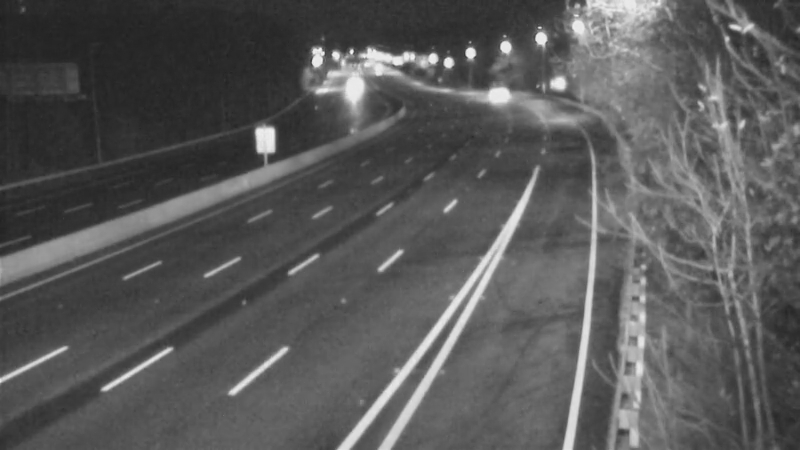vehicle: (474, 70, 524, 120), (330, 66, 380, 116)
